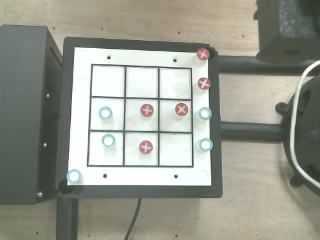blue circle: (67, 169, 80, 183), (99, 106, 112, 119), (102, 134, 115, 146), (200, 138, 212, 151), (199, 107, 211, 119)
board: (68, 47, 213, 185)
cells: (89, 132, 122, 165), (125, 133, 157, 165), (91, 98, 123, 129), (160, 68, 191, 99), (160, 100, 191, 131), (160, 134, 191, 165), (126, 99, 157, 130), (92, 66, 124, 96), (126, 67, 157, 97)
grid: (87, 64, 193, 167)
red cross: (140, 104, 154, 117), (139, 140, 152, 153), (197, 48, 210, 60), (198, 78, 211, 90), (175, 103, 187, 115)
